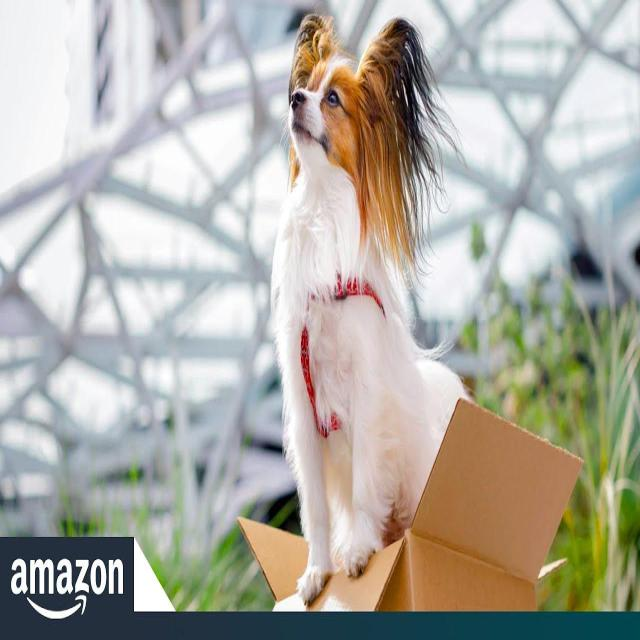Dog: (277, 7, 446, 255)
